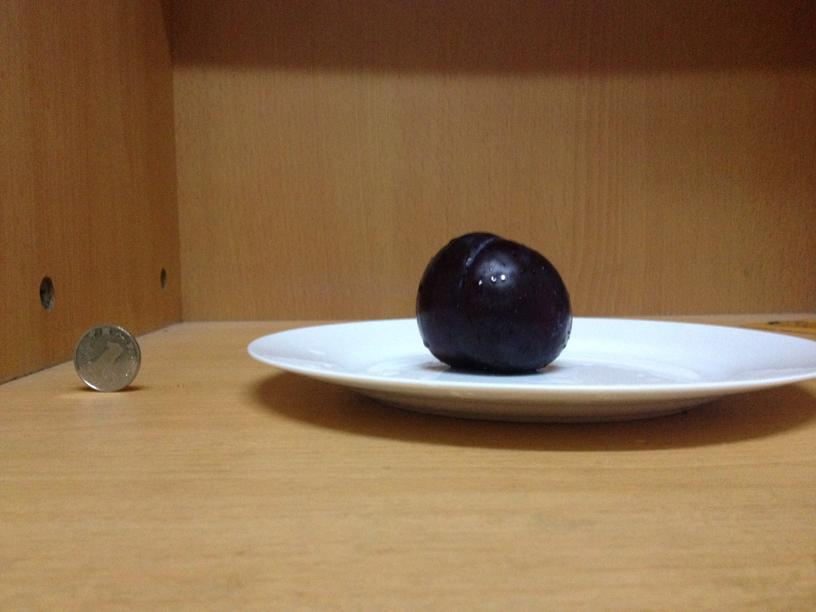coin: (66, 324, 143, 395)
plum: (409, 229, 574, 373)
